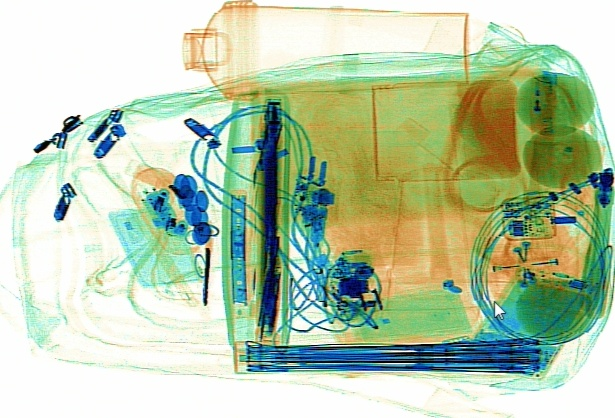lighter: (524, 67, 555, 173)
